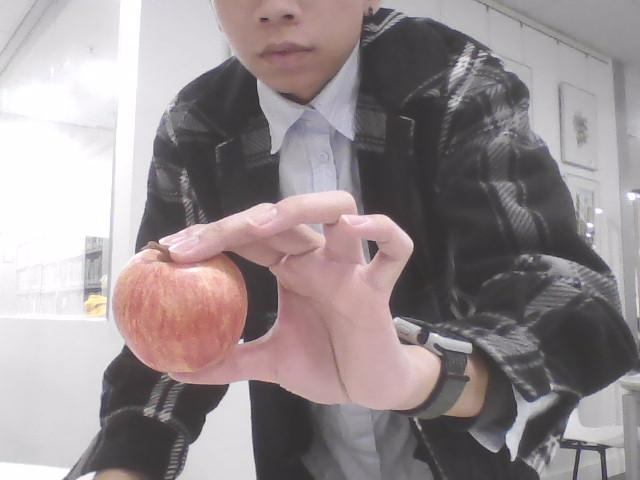apple: (111, 239, 249, 372)
